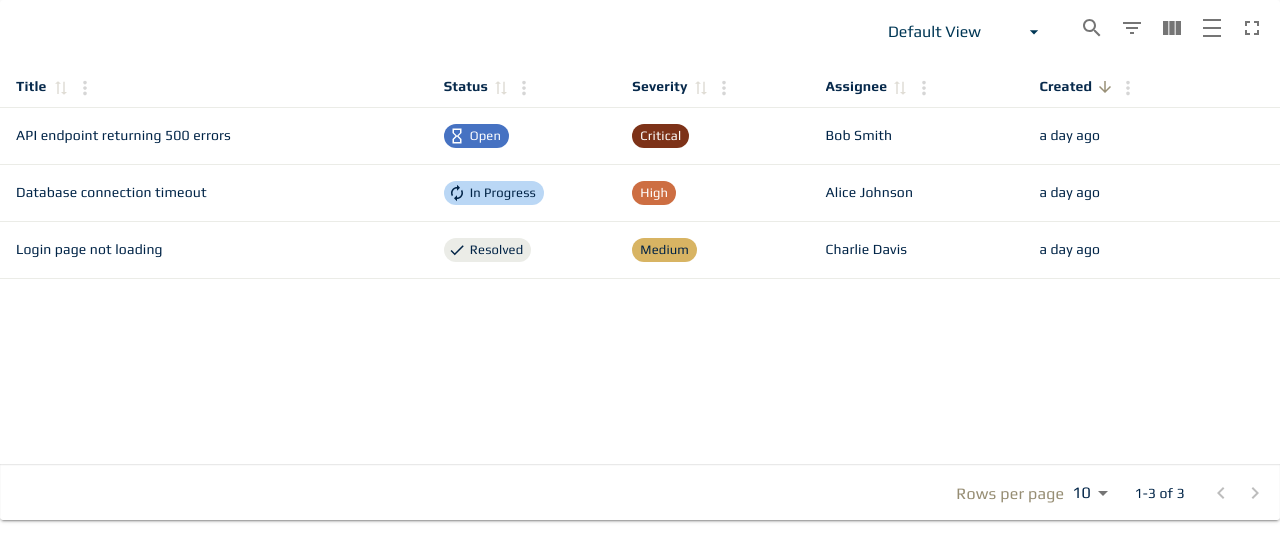
Test: Saved Views Integration Tests › Create-and-Apply Workflow (T032, T039) › applies a saved view by selecting it from dropdown
Expected: the text "Database connection timeout" is shown, left=0, top=165, right=428, bottom=222
# Open dropdown and select the saved view
Click the button "Default View".
click(964, 32)  # box left=864, top=8, right=1064, bottom=56
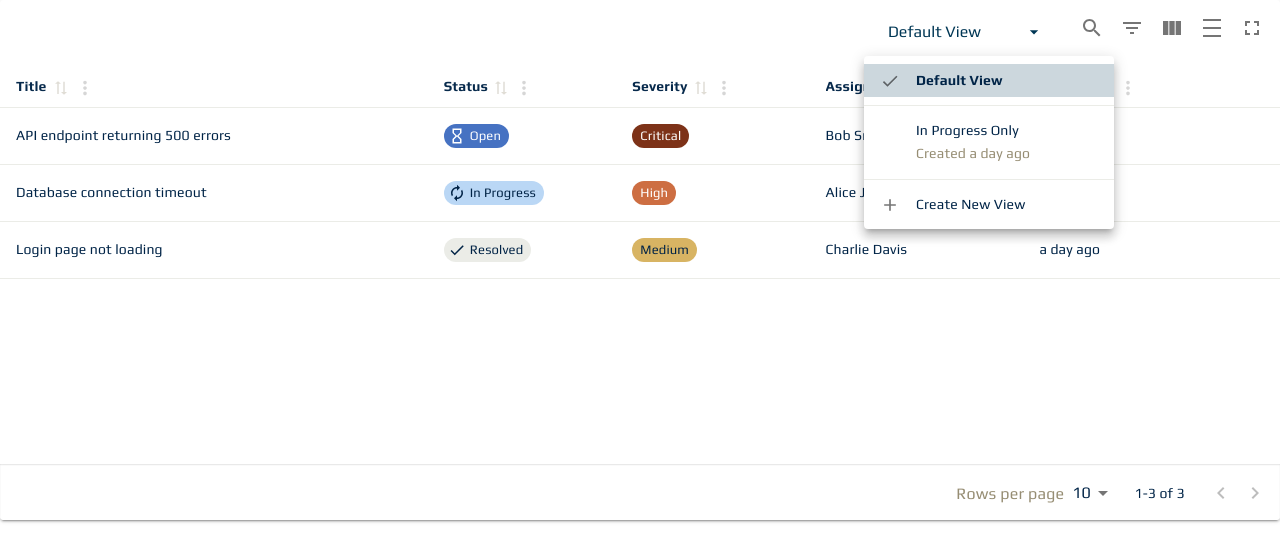
Now the text "In Progress Only" is shown, box left=916, top=120, right=1034, bottom=141
Click the menu item "In Progress Only Created a day ago".
click(967, 130)  # box left=916, top=122, right=1030, bottom=161
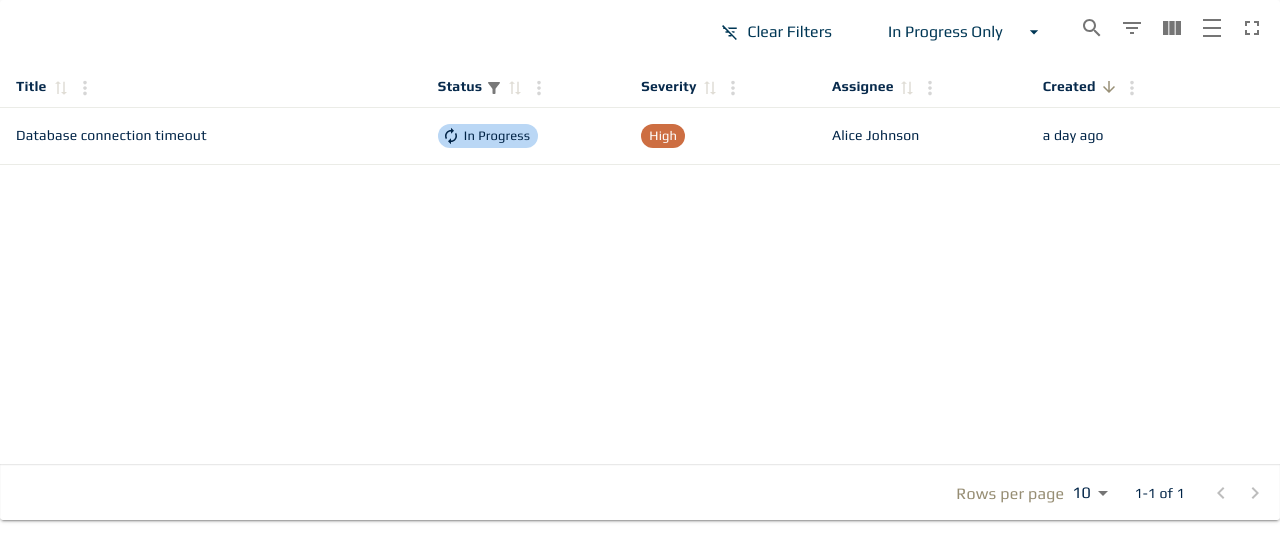
Now the button "In Progress Only" is shown, box left=864, top=8, right=1064, bottom=56
